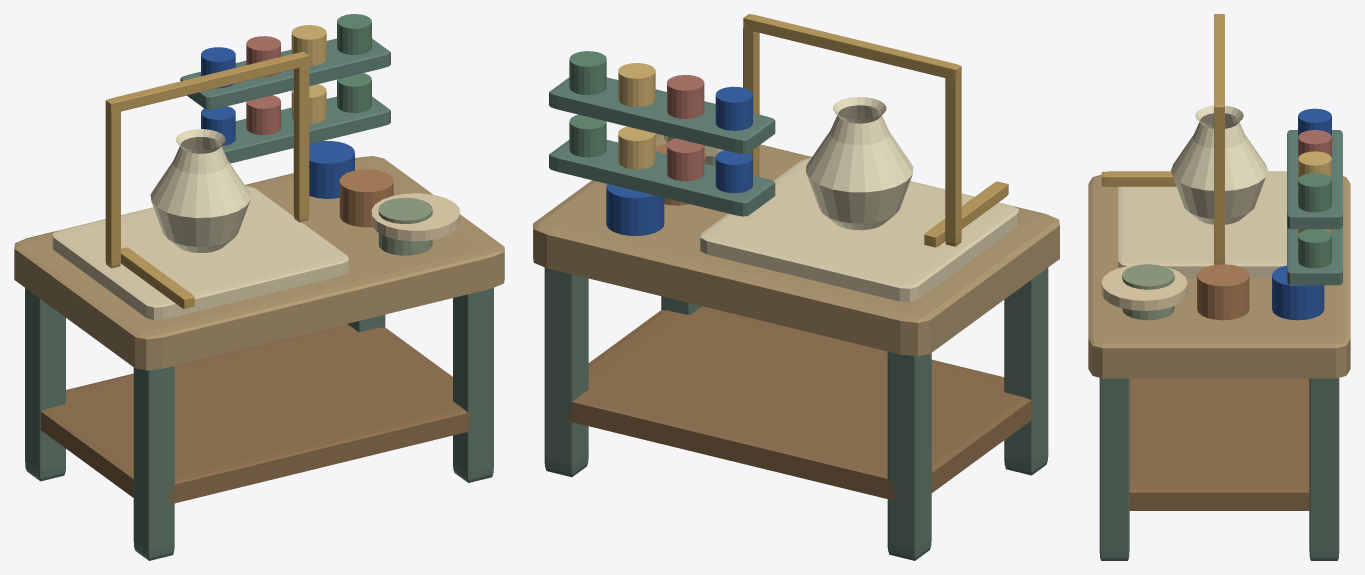
The model's file is paint.glb.
3 views of the same model, side by side, from view 1: azimuth 30°, elevation 25°; view 2: azimuth 150°, elevation 25°; view 3: azimuth 270°, elevation 25° (orthographic). The views are drawn at different scales.
Parts seen in each view (by area): view 1: paint-table-shelf-005, paint-table-top-000, paint-paint-mat-006, paint-paint-vase-007, paint-table-leg-002, paint-table-leg-004, paint-table-leg-001, paint-paint-shelf-016, paint-paint-shelf-011, paint-paint-crossbar-024, paint-paint-post-023, paint-paint-post-022 (+13 smaller); view 2: paint-table-shelf-005, paint-table-top-000, paint-paint-mat-006, paint-paint-vase-007, paint-table-leg-001, paint-table-leg-003, paint-table-leg-002, paint-paint-shelf-016, paint-paint-shelf-011, paint-paint-crossbar-024, paint-paint-post-022, paint-paint-pot-008 (+10 smaller); view 3: paint-table-shelf-005, paint-table-top-000, paint-paint-mat-006, paint-paint-vase-007, paint-table-leg-003, paint-table-leg-004, paint-paint-shelf-016, paint-paint-pot-009, paint-paint-palette-025, paint-paint-pot-008, paint-paint-shelf-011, paint-paint-post-023 (+8 smaller).
Boxes of the visible parts, x1=… form: paint-table-shelf-005: x1=40, y1=324, x2=474, y2=504; paint-table-top-000: x1=14, y1=156, x2=504, y2=370; paint-paint-mat-006: x1=52, y1=186, x2=348, y2=320; paint-paint-vase-007: x1=150, y1=129, x2=250, y2=252; paint-table-leg-002: x1=133, y1=366, x2=174, y2=560; paint-table-leg-004: x1=453, y1=288, x2=493, y2=482; paint-table-leg-001: x1=25, y1=288, x2=65, y2=481; paint-paint-shelf-016: x1=180, y1=38, x2=390, y2=109; paint-paint-shelf-011: x1=221, y1=96, x2=390, y2=163; paint-paint-crossbar-024: x1=105, y1=52, x2=308, y2=112; paint-paint-post-023: x1=293, y1=59, x2=309, y2=222; paint-paint-post-022: x1=105, y1=107, x2=120, y2=268; paint-table-shelf-005: x1=565, y1=306, x2=1031, y2=500; paint-table-top-000: x1=533, y1=133, x2=1059, y2=356; paint-paint-mat-006: x1=700, y1=158, x2=1018, y2=302; paint-paint-vase-007: x1=806, y1=97, x2=913, y2=230; paint-table-leg-001: x1=887, y1=351, x2=931, y2=560; paint-table-leg-003: x1=544, y1=267, x2=588, y2=477; paint-table-leg-002: x1=1004, y1=268, x2=1048, y2=475; paint-paint-shelf-016: x1=549, y1=77, x2=775, y2=154; paint-paint-shelf-011: x1=549, y1=140, x2=775, y2=216; paint-paint-crossbar-024: x1=743, y1=14, x2=961, y2=79; paint-paint-post-022: x1=945, y1=73, x2=961, y2=246; paint-paint-pot-008: x1=606, y1=184, x2=664, y2=235; paint-table-shelf-005: x1=1129, y1=378, x2=1309, y2=510; paint-table-top-000: x1=1088, y1=174, x2=1350, y2=378; paint-paint-mat-006: x1=1118, y1=171, x2=1286, y2=278; paint-paint-vase-007: x1=1171, y1=105, x2=1267, y2=224; paint-table-leg-003: x1=1309, y1=378, x2=1339, y2=560; paint-table-leg-004: x1=1099, y1=378, x2=1129, y2=560; paint-paint-shelf-016: x1=1287, y1=130, x2=1342, y2=229; paint-paint-pot-009: x1=1197, y1=264, x2=1249, y2=320; paint-paint-palette-025: x1=1101, y1=264, x2=1187, y2=310; paint-paint-pot-008: x1=1272, y1=265, x2=1324, y2=320; paint-paint-shelf-011: x1=1287, y1=225, x2=1342, y2=285; paint-paint-post-023: x1=1214, y1=111, x2=1224, y2=264.
Bounding box in the file's own units: 2.2 × 2.33 × 1.4.
